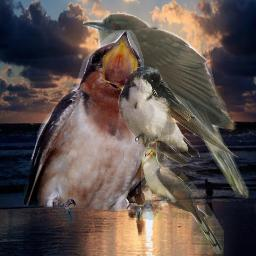Cuckoo: (83, 13, 249, 201), (141, 147, 224, 254)
Swallow: (24, 30, 169, 223), (116, 65, 238, 167)
